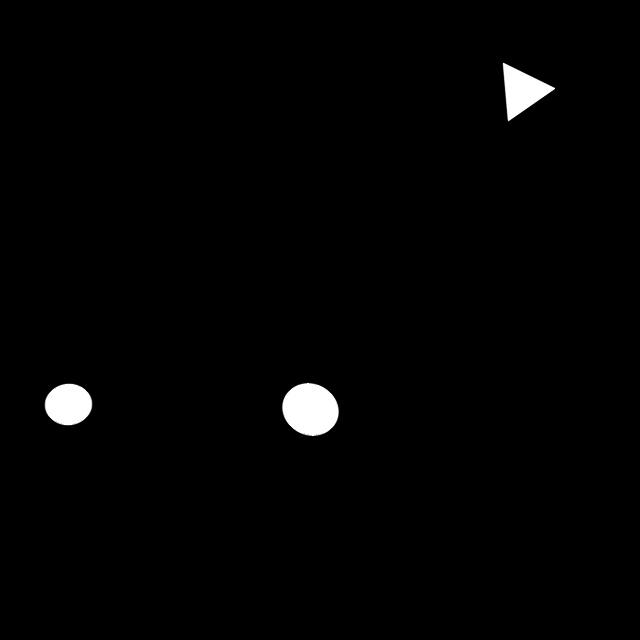Circle: (276, 375, 346, 443), (35, 375, 104, 438)
Triangle: (482, 48, 566, 140)
